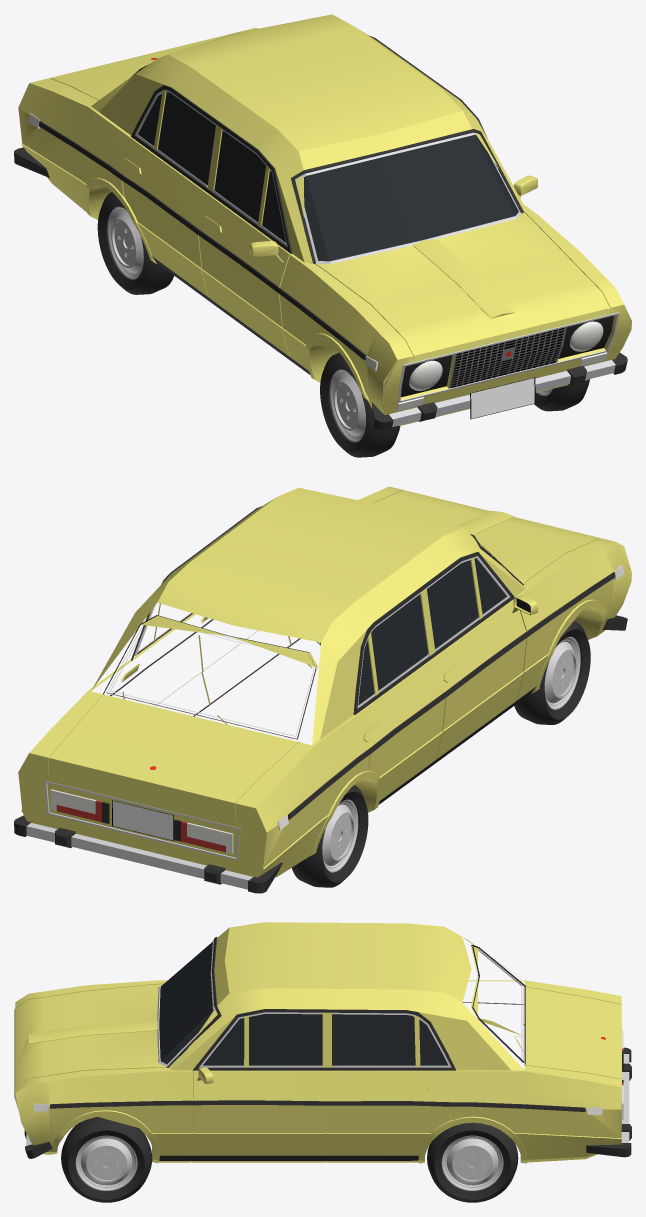
Rendered from vaz2106.gltf.
The picture shows the model from 3 angles, top to bottom: view 1: azimuth 30°, elevation 25°; view 2: azimuth 150°, elevation 25°; view 3: azimuth 270°, elevation 25°; orthographic projection. The views are drawn at different scales.
Parts seen in each view (by area): view 1: Body, Wheel_FR, Wheel_RR, Wheel_FL; view 2: Body, Wheel_FR, Wheel_RR; view 3: Body, Wheel_FL, Wheel_RL.
Boxes of the visible parts, box(x1,y1,x2,y2) form: Body: box(14, 14, 631, 430); Wheel_FR: box(320, 352, 400, 457); Wheel_RR: box(97, 192, 173, 294); Wheel_FL: box(534, 379, 589, 411); Body: box(14, 486, 631, 893); Wheel_FR: box(514, 621, 590, 724); Wheel_RR: box(292, 785, 368, 887); Body: box(14, 922, 631, 1174); Wheel_FL: box(61, 1117, 152, 1202); Wheel_RL: box(427, 1122, 518, 1202).
Size of the model in its own units: 1.87 by 1.56 by 4.24.
